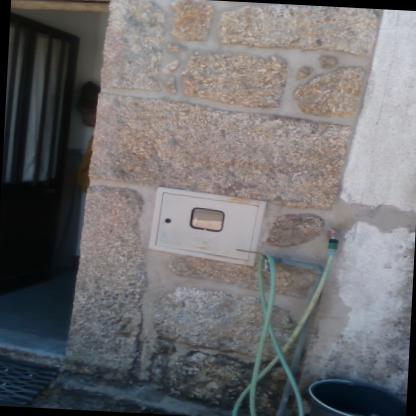open: (0, 0, 111, 367)
